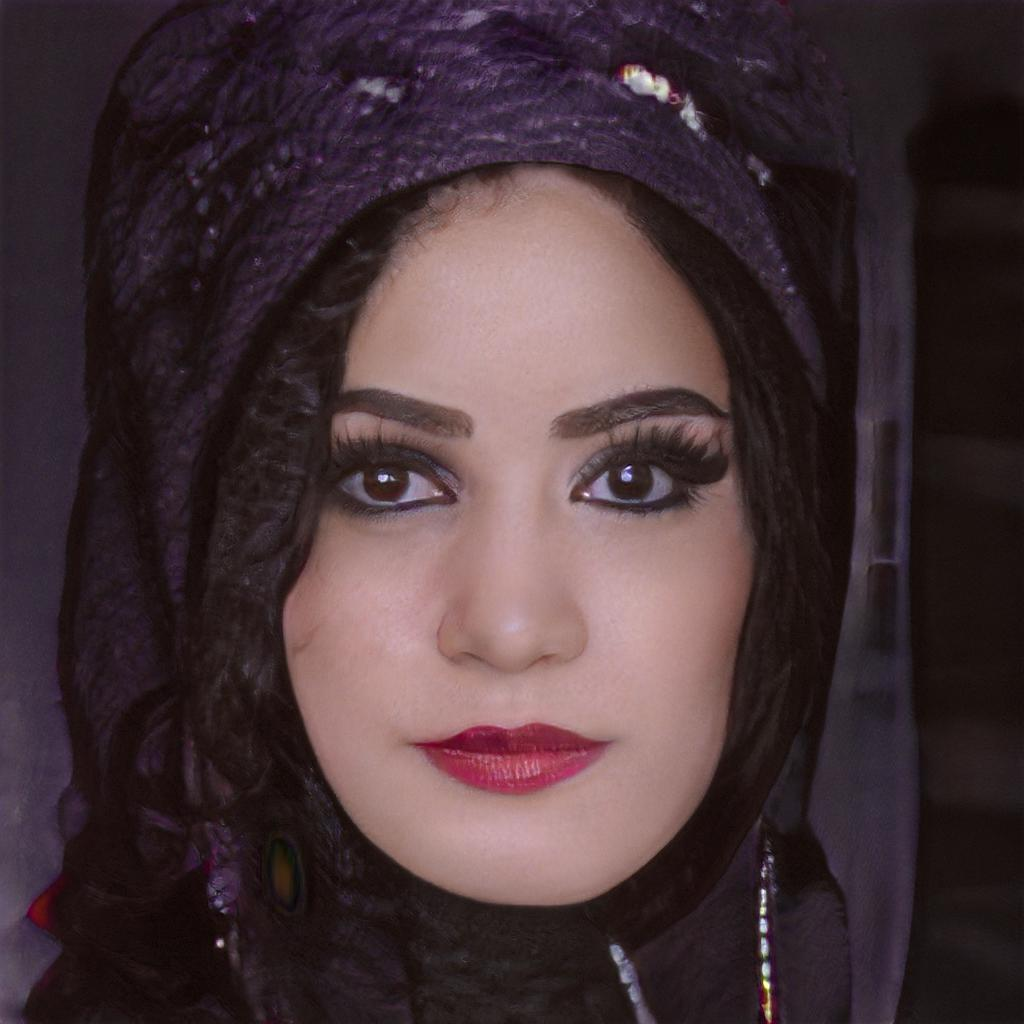face: (282, 167, 760, 907)
